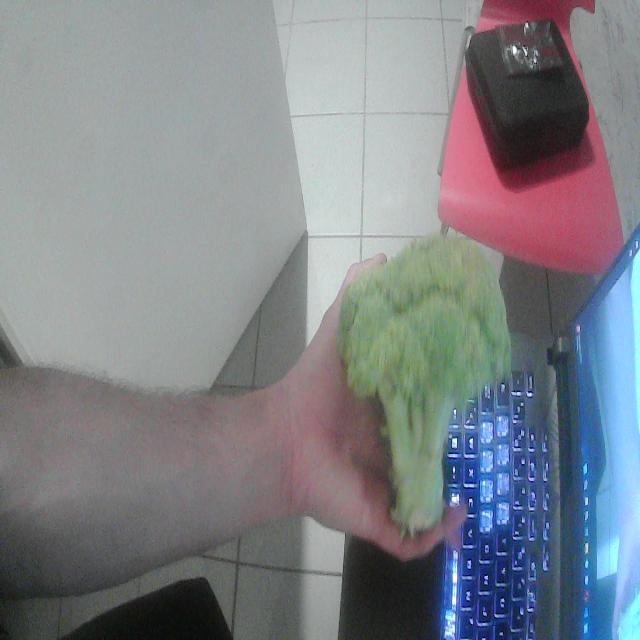Broccoli: (339, 234, 510, 536)
